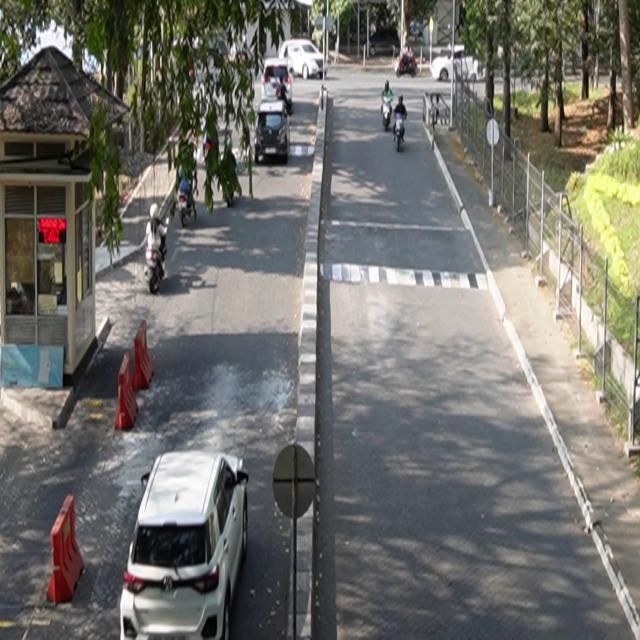car: (120, 451, 250, 640), (255, 101, 290, 165), (280, 39, 329, 81), (432, 46, 484, 84)
